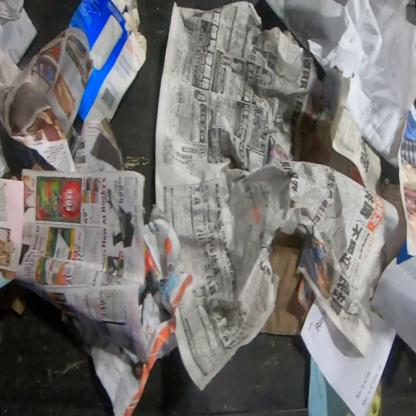cardboard: (67, 0, 148, 126), (259, 229, 308, 336), (0, 278, 29, 316)
